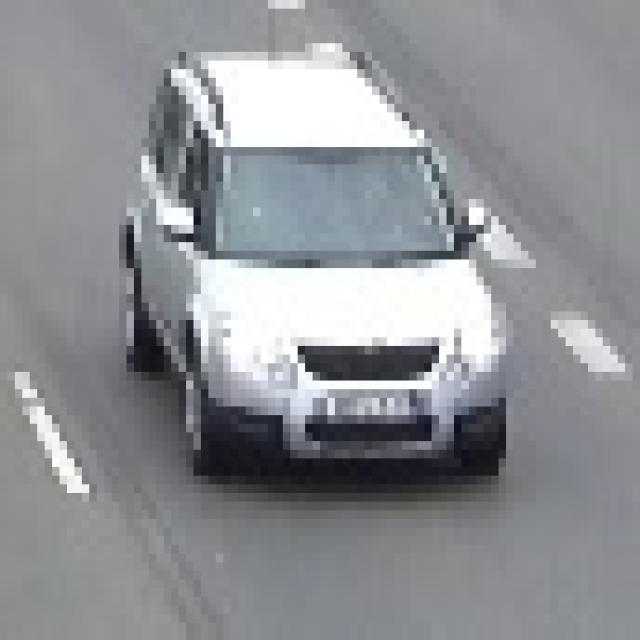SUV: (135, 58, 498, 472)
